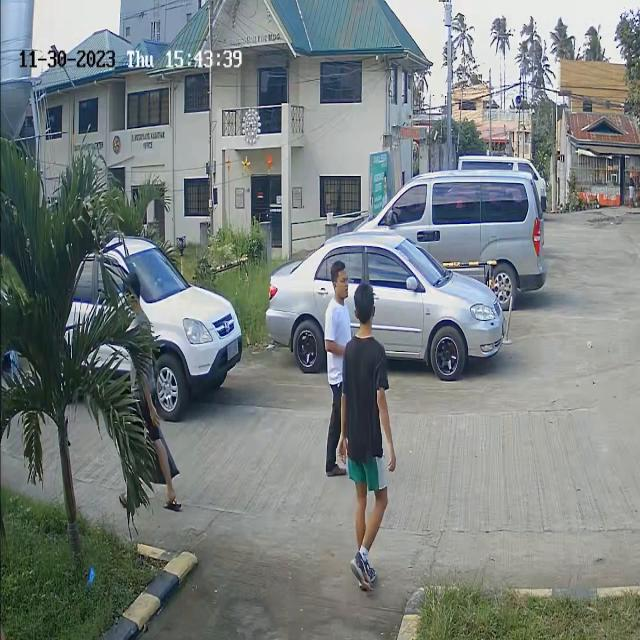person: (336, 282, 398, 438), (321, 254, 357, 362)
